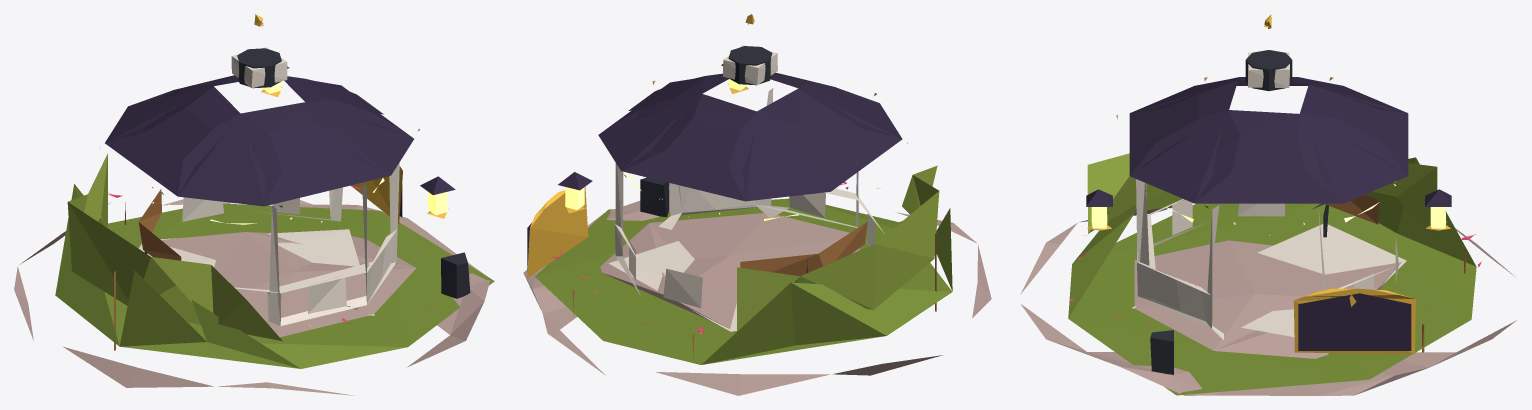
File: bld.gazebo.lod2.glb
3 renders of one model, left to right at view 1: azimuth 30°, elevation 25°; view 2: azimuth 150°, elevation 25°; view 3: azimuth 270°, elevation 25°, orthographic. The views are drawn at different scales.
Parts seen in each view (by area): view 1: roof, object 15, interior, object 14, object 16, object 18, object 20, object 17, object 13; view 2: roof, object 15, interior, object 14, object 16, object 18, object 17, object 20, object 13; view 3: object 15, roof, interior, object 13, object 16, object 18, object 14, object 17, object 20.
Part boxes in pixels (x1=…): roof: x1=99, y1=14, x2=419, y2=207; object 15: x1=55, y1=184, x2=494, y2=368; interior: x1=138, y1=189, x2=416, y2=337; object 14: x1=67, y1=153, x2=282, y2=341; object 16: x1=182, y1=162, x2=399, y2=326; object 18: x1=14, y1=199, x2=490, y2=395; object 20: x1=441, y1=252, x2=470, y2=298; object 17: x1=108, y1=86, x2=448, y2=328; object 13: x1=287, y1=66, x2=455, y2=217; roof: x1=598, y1=14, x2=907, y2=201; object 15: x1=535, y1=198, x2=952, y2=364; interior: x1=600, y1=213, x2=867, y2=331; object 14: x1=737, y1=165, x2=939, y2=331; object 16: x1=614, y1=88, x2=884, y2=308; object 18: x1=523, y1=184, x2=991, y2=395; object 17: x1=527, y1=83, x2=880, y2=333; object 20: x1=640, y1=177, x2=669, y2=217; object 13: x1=527, y1=64, x2=723, y2=270; object 15: x1=1068, y1=157, x2=1476, y2=395; roof: x1=1116, y1=14, x2=1420, y2=208; interior: x1=1131, y1=194, x2=1406, y2=358; object 13: x1=1086, y1=189, x2=1451, y2=350; object 16: x1=1136, y1=179, x2=1398, y2=339; object 18: x1=1020, y1=206, x2=1516, y2=395; object 14: x1=1087, y1=153, x2=1437, y2=244; object 17: x1=1079, y1=225, x2=1476, y2=354; object 20: x1=1150, y1=330, x2=1173, y2=374.
Size of the model in its own units: 9.91 by 6.75 by 10.43.
